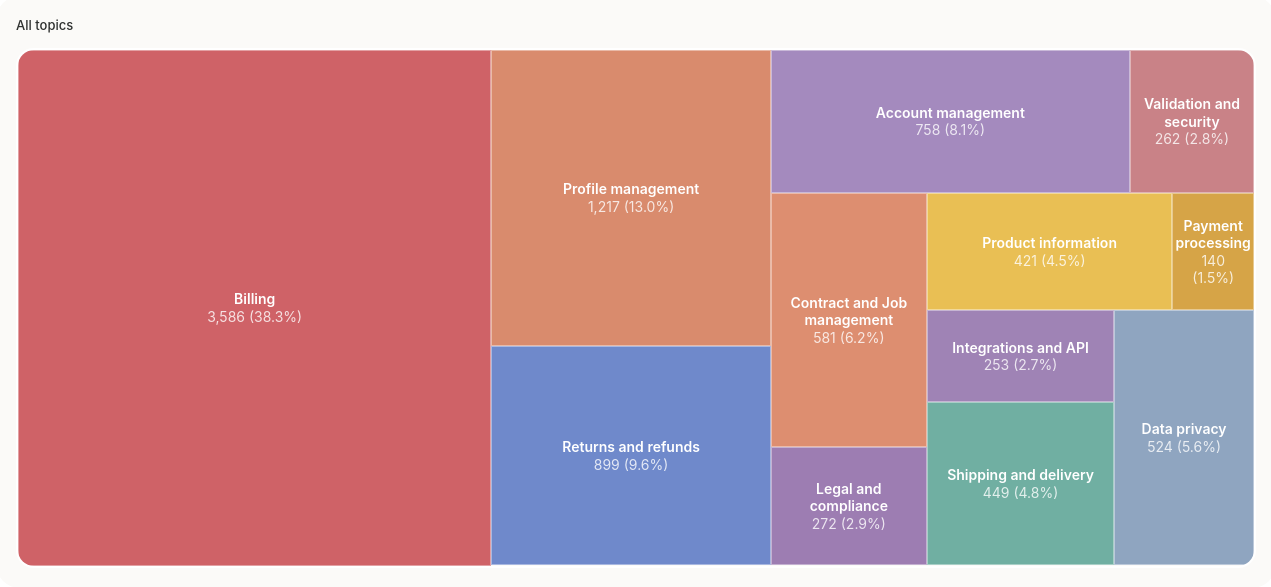
it: TopicTreemap › drills into a topic on click and shows a breadcrumb back to All topics
This screenshot has width=1271, height=587.
Click the button "Billing 3,586 (38.3%)" at (255, 308), box [18,50,491,566]
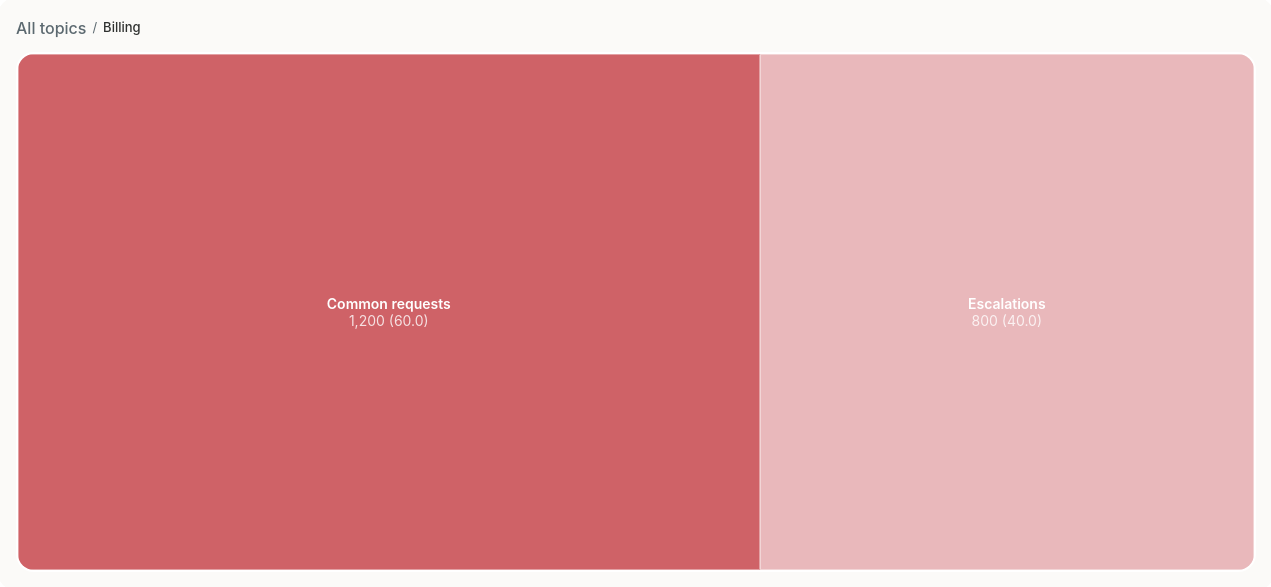
Expected: the button "All topics" is shown, [16,16,86,40]
Expected: the text "Common requests" is shown, [327,294,451,312]
